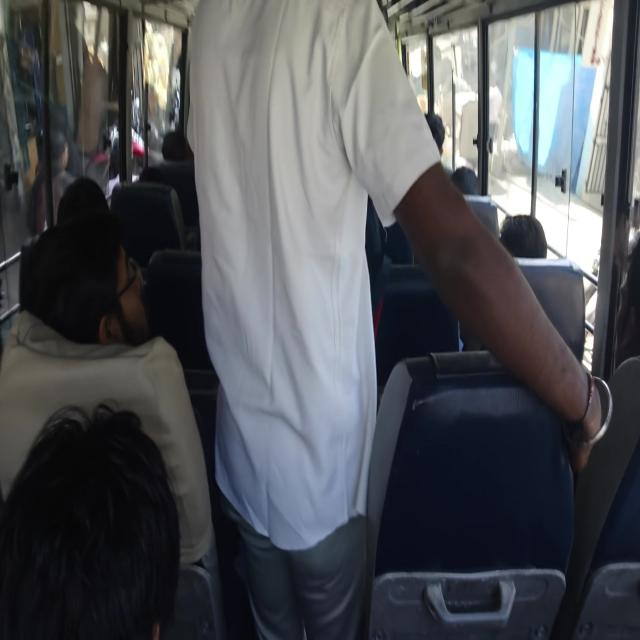person: (188, 8, 388, 544), (13, 418, 167, 616), (32, 243, 182, 386), (504, 204, 560, 268), (610, 238, 638, 356), (66, 184, 110, 218), (416, 114, 448, 160), (451, 163, 484, 207), (166, 123, 198, 164)
